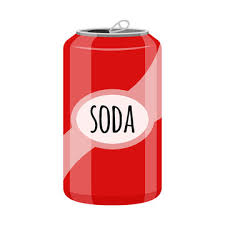can: (60, 20, 166, 204)
